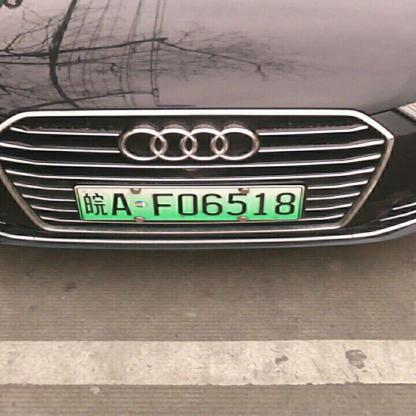lp: (75, 184, 303, 219)
